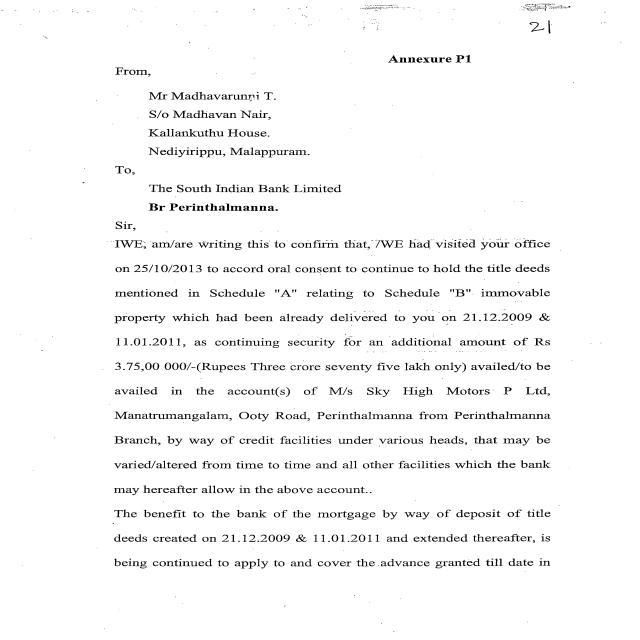page-number: (473, 0, 639, 129)
